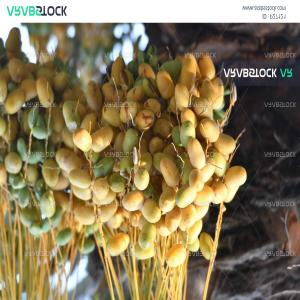palm tree: (0, 25, 248, 299)
